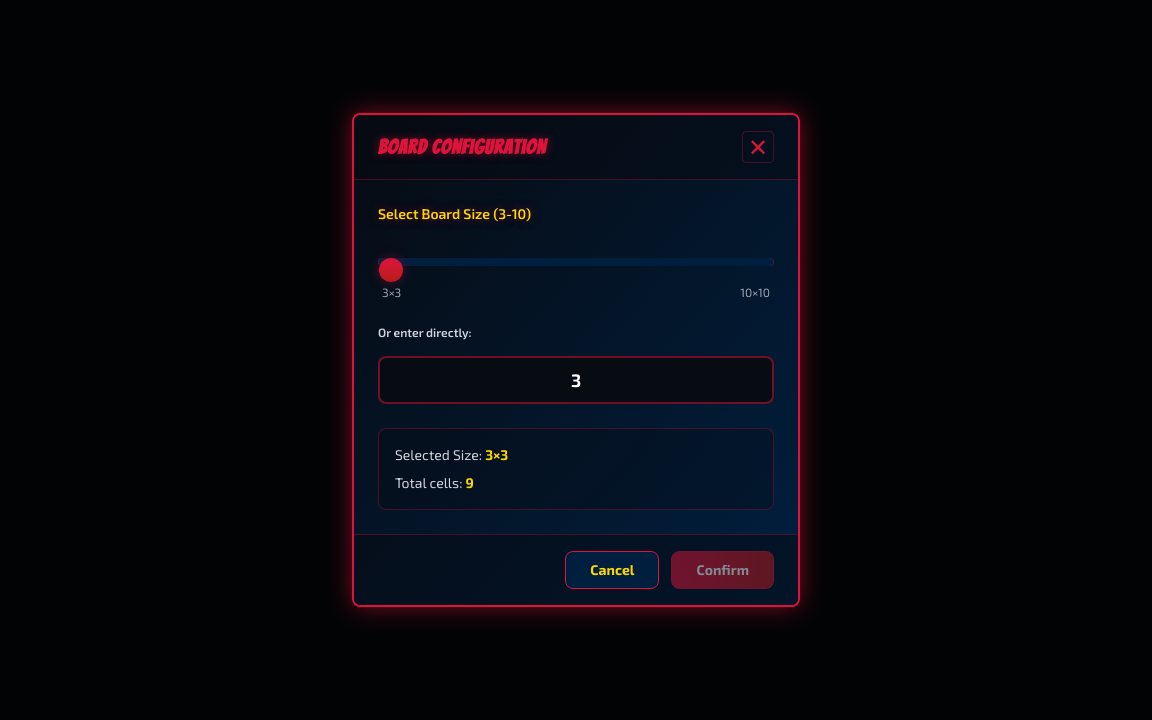
Test: BoardConfiguration.vue › Slider Functionality › should sync number input with slider changes
The image size is (1152, 720).
Set the slider with id "board-size-slider" to "6": (549, 262) [378,258,774,266]
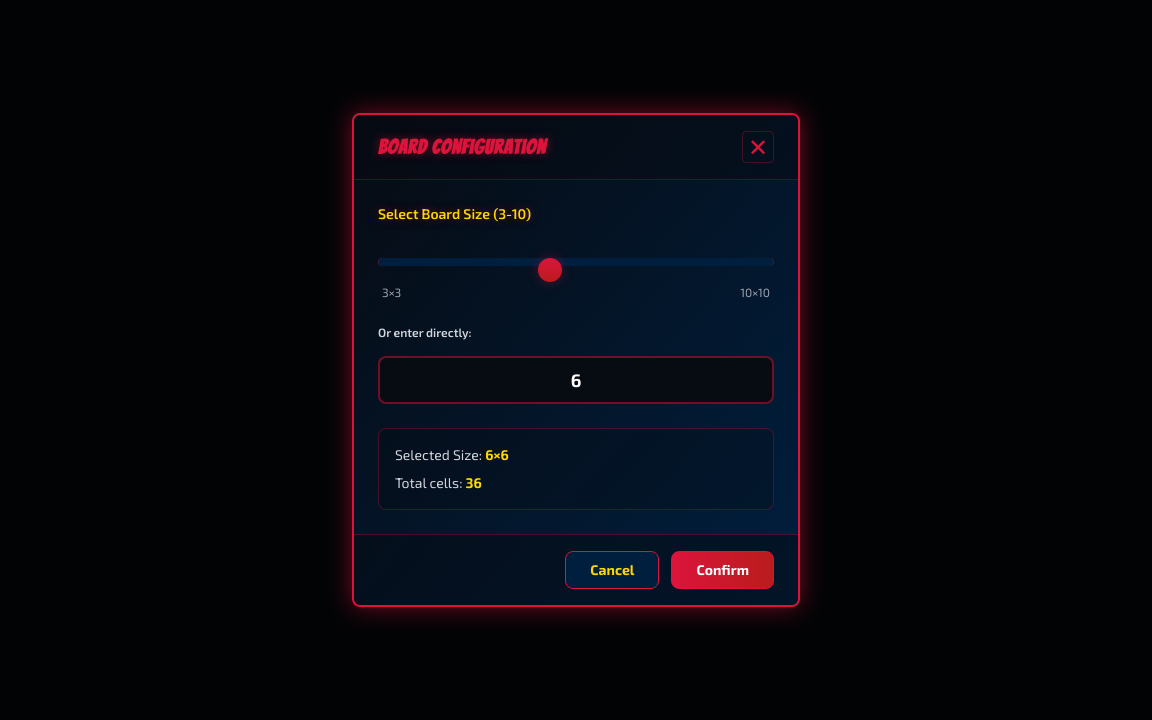
Expected: the number field with id "board-size-input" holds "6", [378,356,774,404]
